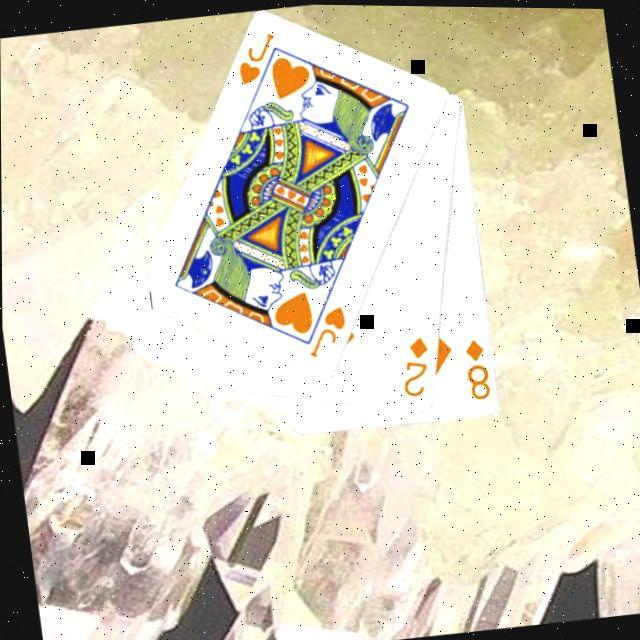2D: (394, 332, 437, 402)
8D: (460, 333, 495, 403)
JH: (300, 301, 354, 363), (231, 28, 285, 90)
